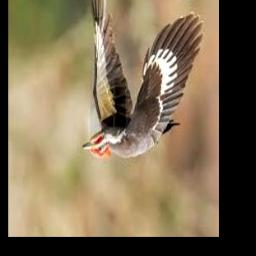Woodpecker: (82, 0, 203, 159)
